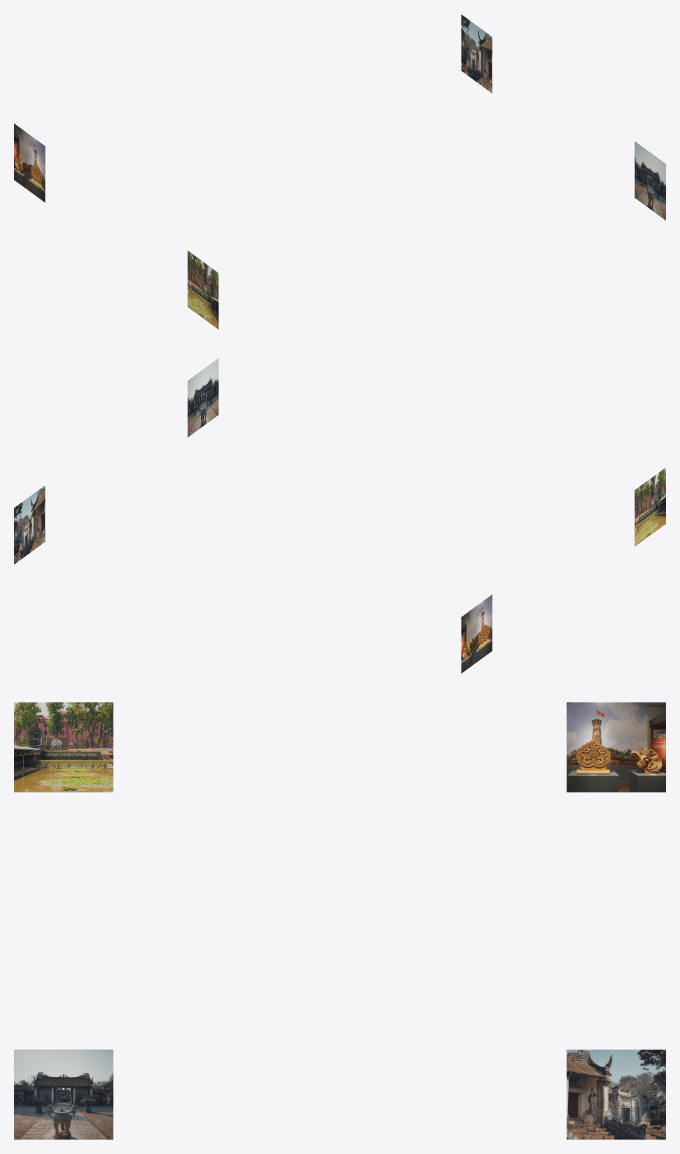
Rendered from bonus img hanoi.glb.
The picture shows the model from 3 angles, top to bottom: view 1: azimuth 30°, elevation 25°; view 2: azimuth 150°, elevation 25°; view 3: azimuth 270°, elevation 25°; orthographic projection. The views are drawn at different scales.
Parts seen in each view (by area): view 1: bonus_img; view 2: bonus_img; view 3: bonus_img.
Boxes of the visible parts, x1,y1,x2,y2 form: bonus_img: (14,14,665,329); bonus_img: (14,358,665,673); bonus_img: (14,702,665,1139).
Bounding box in the file's own units: 14.88 × 1.8 × 11.8.
Materials: 1 (1 with a texture image).
